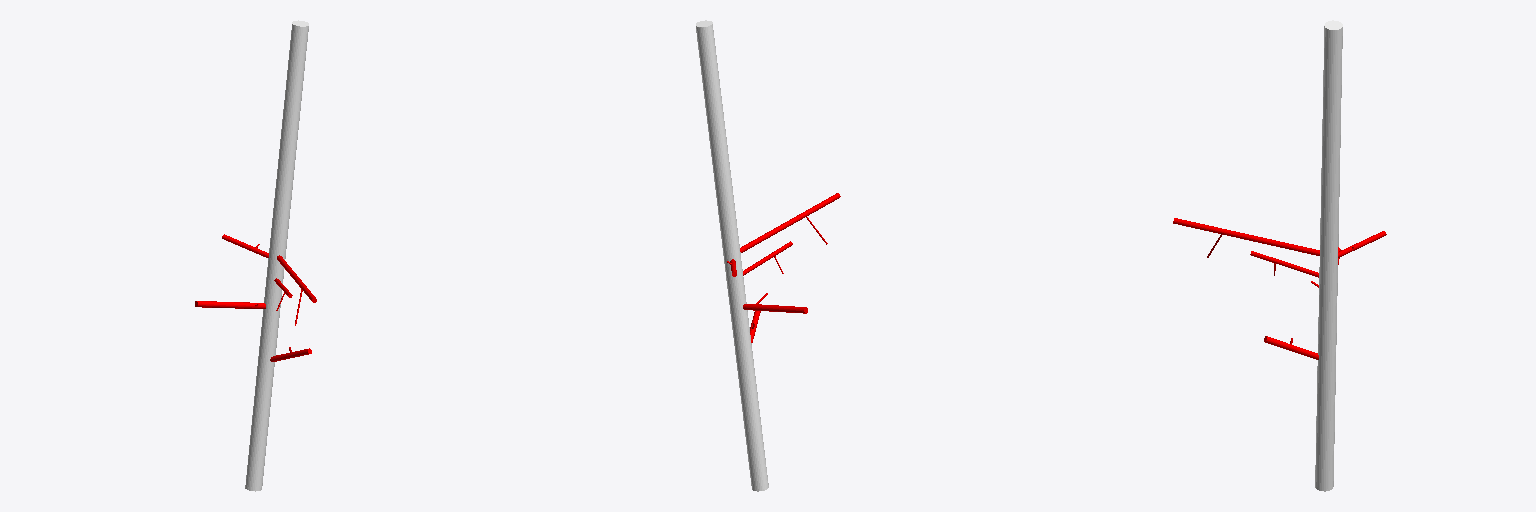
The robot description file, URDF, robot "tree_99.urdf":
<?xml version='1.0' encoding='UTF-8'?>
<robot name="tree_99.urdf">
  <link name="branch_0">
    <inertial>
      <origin xyz="0.0 0.0 0.0" rpy="0.0 -0.0 0.0"/>
      <mass value="0.1"/>
      <inertia ixx="0.001" ixy="0.0" ixz="0.0" iyy="0.001" iyz="0.0" izz="0.001"/>
    </inertial>
    <visual name="branch_0_visual">
      <geometry>
        <cylinder radius="0.12350178708988808" length="7.21364896694349"/>
      </geometry>
      <material name="branch_material"/>
      <origin xyz="0.4286528426789474 0.061968656938220464 3.58072611080375" rpy="-3.4337509147552024e-18 0.12037087818322342 0.1435714012298699"/>
    </visual>
    <collision name="branch_0_collision">
      <geometry>
        <cylinder radius="0.12350178708988808" length="7.21364896694349"/>
      </geometry>
      <origin xyz="0.4286528426789474 0.061968656938220464 3.58072611080375" rpy="-3.4337509147552024e-18 0.12037087818322342 0.1435714012298699"/>
    </collision>
  </link>
  <link name="branch_1">
    <inertial>
      <origin xyz="0.0 0.0 0.0" rpy="0.0 -0.0 0.0"/>
      <mass value="0.1"/>
      <inertia ixx="0.001" ixy="0.0" ixz="0.0" iyy="0.001" iyz="0.0" izz="0.001"/>
    </inertial>
    <visual name="branch_1_visual">
      <geometry>
        <cylinder radius="0.03699256404425083" length="0.8947636225526304"/>
      </geometry>
      <material name="semantic_material"/>
      <origin xyz="0.0 0.0 0.0" rpy="0.0 -0.0 0.0"/>
    </visual>
    <collision name="branch_1_collision">
      <geometry>
        <cylinder radius="0.03699256404425083" length="0.8947636225526304"/>
      </geometry>
      <origin xyz="0.0 0.0 0.0" rpy="0.0 -0.0 0.0"/>
    </collision>
  </link>
  <link name="branch_2">
    <inertial>
      <origin xyz="0.0 0.0 0.0" rpy="0.0 -0.0 0.0"/>
      <mass value="0.1"/>
      <inertia ixx="0.001" ixy="0.0" ixz="0.0" iyy="0.001" iyz="0.0" izz="0.001"/>
    </inertial>
    <visual name="branch_2_visual">
      <geometry>
        <cylinder radius="0.012481937470338841" length="0.11423264331325644"/>
      </geometry>
      <material name="semantic_material"/>
      <origin xyz="0.0 0.0 0.0" rpy="0.0 -0.0 0.0"/>
    </visual>
    <collision name="branch_2_collision">
      <geometry>
        <cylinder radius="0.012481937470338841" length="0.11423264331325644"/>
      </geometry>
      <origin xyz="0.0 0.0 0.0" rpy="0.0 -0.0 0.0"/>
    </collision>
  </link>
  <link name="branch_3">
    <inertial>
      <origin xyz="0.0 0.0 0.0" rpy="0.0 -0.0 0.0"/>
      <mass value="0.1"/>
      <inertia ixx="0.001" ixy="0.0" ixz="0.0" iyy="0.001" iyz="0.0" izz="0.001"/>
    </inertial>
    <visual name="branch_3_visual">
      <geometry>
        <cylinder radius="0.04669268133266763" length="1.228259081625874"/>
      </geometry>
      <material name="semantic_material"/>
      <origin xyz="0.0 0.0 0.0" rpy="0.0 -0.0 0.0"/>
    </visual>
    <collision name="branch_3_collision">
      <geometry>
        <cylinder radius="0.04669268133266763" length="1.228259081625874"/>
      </geometry>
      <origin xyz="0.0 0.0 0.0" rpy="0.0 -0.0 0.0"/>
    </collision>
  </link>
  <link name="branch_4">
    <inertial>
      <origin xyz="0.0 0.0 0.0" rpy="0.0 -0.0 0.0"/>
      <mass value="0.1"/>
      <inertia ixx="0.001" ixy="0.0" ixz="0.0" iyy="0.001" iyz="0.0" izz="0.001"/>
    </inertial>
    <visual name="branch_4_visual">
      <geometry>
        <cylinder radius="0.014088296497590195" length="0.3046156428900772"/>
      </geometry>
      <material name="semantic_material"/>
      <origin xyz="0.0 0.0 0.0" rpy="0.0 -0.0 0.0"/>
    </visual>
    <collision name="branch_4_collision">
      <geometry>
        <cylinder radius="0.014088296497590195" length="0.3046156428900772"/>
      </geometry>
      <origin xyz="0.0 0.0 0.0" rpy="0.0 -0.0 0.0"/>
    </collision>
  </link>
  <link name="branch_5">
    <inertial>
      <origin xyz="0.0 0.0 0.0" rpy="0.0 -0.0 0.0"/>
      <mass value="0.1"/>
      <inertia ixx="0.001" ixy="0.0" ixz="0.0" iyy="0.001" iyz="0.0" izz="0.001"/>
    </inertial>
    <visual name="branch_5_visual">
      <geometry>
        <cylinder radius="0.039355073548773704" length="2.1484152109437935"/>
      </geometry>
      <material name="semantic_material"/>
      <origin xyz="0.0 0.0 0.0" rpy="0.0 -0.0 0.0"/>
    </visual>
    <collision name="branch_5_collision">
      <geometry>
        <cylinder radius="0.039355073548773704" length="2.1484152109437935"/>
      </geometry>
      <origin xyz="0.0 0.0 0.0" rpy="0.0 -0.0 0.0"/>
    </collision>
  </link>
  <link name="branch_6">
    <inertial>
      <origin xyz="0.0 0.0 0.0" rpy="0.0 -0.0 0.0"/>
      <mass value="0.1"/>
      <inertia ixx="0.001" ixy="0.0" ixz="0.0" iyy="0.001" iyz="0.0" izz="0.001"/>
    </inertial>
    <visual name="branch_6_visual">
      <geometry>
        <cylinder radius="0.012058277227409863" length="0.5886974218983628"/>
      </geometry>
      <material name="semantic_material"/>
      <origin xyz="0.0 0.0 0.0" rpy="0.0 -0.0 0.0"/>
    </visual>
    <collision name="branch_6_collision">
      <geometry>
        <cylinder radius="0.012058277227409863" length="0.5886974218983628"/>
      </geometry>
      <origin xyz="0.0 0.0 0.0" rpy="0.0 -0.0 0.0"/>
    </collision>
  </link>
  <link name="branch_7">
    <inertial>
      <origin xyz="0.0 0.0 0.0" rpy="0.0 -0.0 0.0"/>
      <mass value="0.1"/>
      <inertia ixx="0.001" ixy="0.0" ixz="0.0" iyy="0.001" iyz="0.0" izz="0.001"/>
    </inertial>
    <visual name="branch_7_visual">
      <geometry>
        <cylinder radius="0.042730576317456116" length="0.9520221547174763"/>
      </geometry>
      <material name="semantic_material"/>
      <origin xyz="0.0 0.0 0.0" rpy="0.0 -0.0 0.0"/>
    </visual>
    <collision name="branch_7_collision">
      <geometry>
        <cylinder radius="0.042730576317456116" length="0.9520221547174763"/>
      </geometry>
      <origin xyz="0.0 0.0 0.0" rpy="0.0 -0.0 0.0"/>
    </collision>
  </link>
  <link name="branch_8">
    <inertial>
      <origin xyz="0.0 0.0 0.0" rpy="0.0 -0.0 0.0"/>
      <mass value="0.1"/>
      <inertia ixx="0.001" ixy="0.0" ixz="0.0" iyy="0.001" iyz="0.0" izz="0.001"/>
    </inertial>
    <visual name="branch_8_visual">
      <geometry>
        <cylinder radius="0.014941958132780054" length="0.13177045010261831"/>
      </geometry>
      <material name="semantic_material"/>
      <origin xyz="0.0 0.0 0.0" rpy="0.0 -0.0 0.0"/>
    </visual>
    <collision name="branch_8_collision">
      <geometry>
        <cylinder radius="0.014941958132780054" length="0.13177045010261831"/>
      </geometry>
      <origin xyz="0.0 0.0 0.0" rpy="0.0 -0.0 0.0"/>
    </collision>
  </link>
  <link name="branch_9">
    <inertial>
      <origin xyz="0.0 0.0 0.0" rpy="0.0 -0.0 0.0"/>
      <mass value="0.1"/>
      <inertia ixx="0.001" ixy="0.0" ixz="0.0" iyy="0.001" iyz="0.0" izz="0.001"/>
    </inertial>
    <visual name="branch_9_visual">
      <geometry>
        <cylinder radius="0.03189589825056799" length="1.101399982277053"/>
      </geometry>
      <material name="semantic_material"/>
      <origin xyz="0.0 0.0 0.0" rpy="0.0 -0.0 0.0"/>
    </visual>
    <collision name="branch_9_collision">
      <geometry>
        <cylinder radius="0.03189589825056799" length="1.101399982277053"/>
      </geometry>
      <origin xyz="0.0 0.0 0.0" rpy="0.0 -0.0 0.0"/>
    </collision>
  </link>
  <link name="branch_10">
    <inertial>
      <origin xyz="0.0 0.0 0.0" rpy="0.0 -0.0 0.0"/>
      <mass value="0.1"/>
      <inertia ixx="0.001" ixy="0.0" ixz="0.0" iyy="0.001" iyz="0.0" izz="0.001"/>
    </inertial>
    <visual name="branch_10_visual">
      <geometry>
        <cylinder radius="0.01" length="0.3222400052266736"/>
      </geometry>
      <material name="semantic_material"/>
      <origin xyz="0.0 0.0 0.0" rpy="0.0 -0.0 0.0"/>
    </visual>
    <collision name="branch_10_collision">
      <geometry>
        <cylinder radius="0.01" length="0.3222400052266736"/>
      </geometry>
      <origin xyz="0.0 0.0 0.0" rpy="0.0 -0.0 0.0"/>
    </collision>
  </link>
  <joint name="joint_0_1" type="fixed">
    <parent link="branch_0"/>
    <child link="branch_1"/>
    <axis xyz="1. 0. 0."/>
    <origin xyz="0.19143084756821735 0.4346014924425179 3.612945971474296" rpy="0.5188771278689085 1.3487338817019692 2.653954908265975"/>
  </joint>
  <joint name="joint_0_3" type="fixed">
    <parent link="branch_0"/>
    <child link="branch_3"/>
    <axis xyz="1. 0. 0."/>
    <origin xyz="-0.26075414616443354 0.11130682249681659 2.9362092766110583" rpy="0.13371291912919042 1.351661686408814 -3.109524129908002"/>
  </joint>
  <joint name="joint_0_5" type="fixed">
    <parent link="branch_0"/>
    <child link="branch_5"/>
    <axis xyz="1. 0. 0."/>
    <origin xyz="0.14662546420127315 -0.966840243909308 3.7121544211675386" rpy="-0.765125712862233 1.411968552501215 -2.6107315410000345"/>
  </joint>
  <joint name="joint_0_7" type="fixed">
    <parent link="branch_0"/>
    <child link="branch_7"/>
    <axis xyz="1. 0. 0."/>
    <origin xyz="0.36105982545754267 -0.37434200368315457 2.1789767101917694" rpy="-0.26471013602431875 1.0962540911397665 -1.5688277805884905"/>
  </joint>
  <joint name="joint_0_9" type="fixed">
    <parent link="branch_0"/>
    <child link="branch_9"/>
    <axis xyz="1. 0. 0."/>
    <origin xyz="0.21987710263877075 -0.45760011485323415 3.3410385570680123" rpy="-0.499954263158905 1.3463585346584266 -2.396268778729996"/>
  </joint>
  <joint name="joint_1_2" type="fixed">
    <parent link="branch_0"/>
    <child link="branch_2"/>
    <axis xyz="1. 0. 0."/>
    <origin xyz="0.2759588514412944 0.38624192359698156 3.6291435590203225" rpy="-0.9906605675867695 0.26884120316396865 -1.1334745600651135"/>
  </joint>
  <joint name="joint_3_4" type="fixed">
    <parent link="branch_0"/>
    <child link="branch_4"/>
    <axis xyz="1. 0. 0."/>
    <origin xyz="0.02600624126642618 -0.05159556181759296 2.9310589108653913" rpy="1.1011283130968006 0.08157236391119504 -0.38771826659485503"/>
  </joint>
  <joint name="joint_5_6" type="fixed">
    <parent link="branch_0"/>
    <child link="branch_6"/>
    <axis xyz="1. 0. 0."/>
    <origin xyz="-0.07841528474287479 -1.4452451382782745 3.5107996795978957" rpy="-2.7694688985487366 0.45997060994717226 1.4342977096101515"/>
  </joint>
  <joint name="joint_7_8" type="fixed">
    <parent link="branch_0"/>
    <child link="branch_8"/>
    <axis xyz="1. 0. 0."/>
    <origin xyz="0.3661339222930846 -0.4377275762346872 2.278471470810362" rpy="-0.19933927003374435 0.1883932938036284 1.9283513365654983"/>
  </joint>
  <joint name="joint_9_10" type="fixed">
    <parent link="branch_0"/>
    <child link="branch_10"/>
    <axis xyz="1. 0. 0."/>
    <origin xyz="0.08096871996875664 -0.6572093385977271 3.2395765608358698" rpy="-2.6898497005358712 0.1998733833982664 1.2576655591585557"/>
  </joint>
  <material name="branch_material">
    <color rgba="1. 1. 1. 1."/>
  </material>
  <material name="semantic_material">
    <color rgba="1. 0. 0. 1."/>
  </material>
</robot>

--- Facts derived from the render (not from the file) ---
The picture shows the robot from 3 angles, left to right: view 1: azimuth 30°, elevation 25°; view 2: azimuth 150°, elevation 25°; view 3: azimuth 270°, elevation 25°; orthographic projection.
Model tree_99.urdf with 11 links and 10 joints (10 fixed), rooted at branch_0, posed all joints at 0.
Links seen in each view (by area): view 1: branch_0; view 2: branch_0, branch_5; view 3: branch_0, branch_5.
Link boxes in pixels (x1=…): branch_0: x1=245, y1=20, x2=308, y2=491; branch_0: x1=696, y1=20, x2=768, y2=491; branch_5: x1=740, y1=193, x2=840, y2=252; branch_0: x1=1315, y1=20, x2=1342, y2=491; branch_5: x1=1173, y1=218, x2=1319, y2=255.
Bounding box of the posed robot: 1.85 × 2.84 × 7.19 m (x, y, z).
Geometry: primitives only (box / cylinder / sphere), no mesh files.